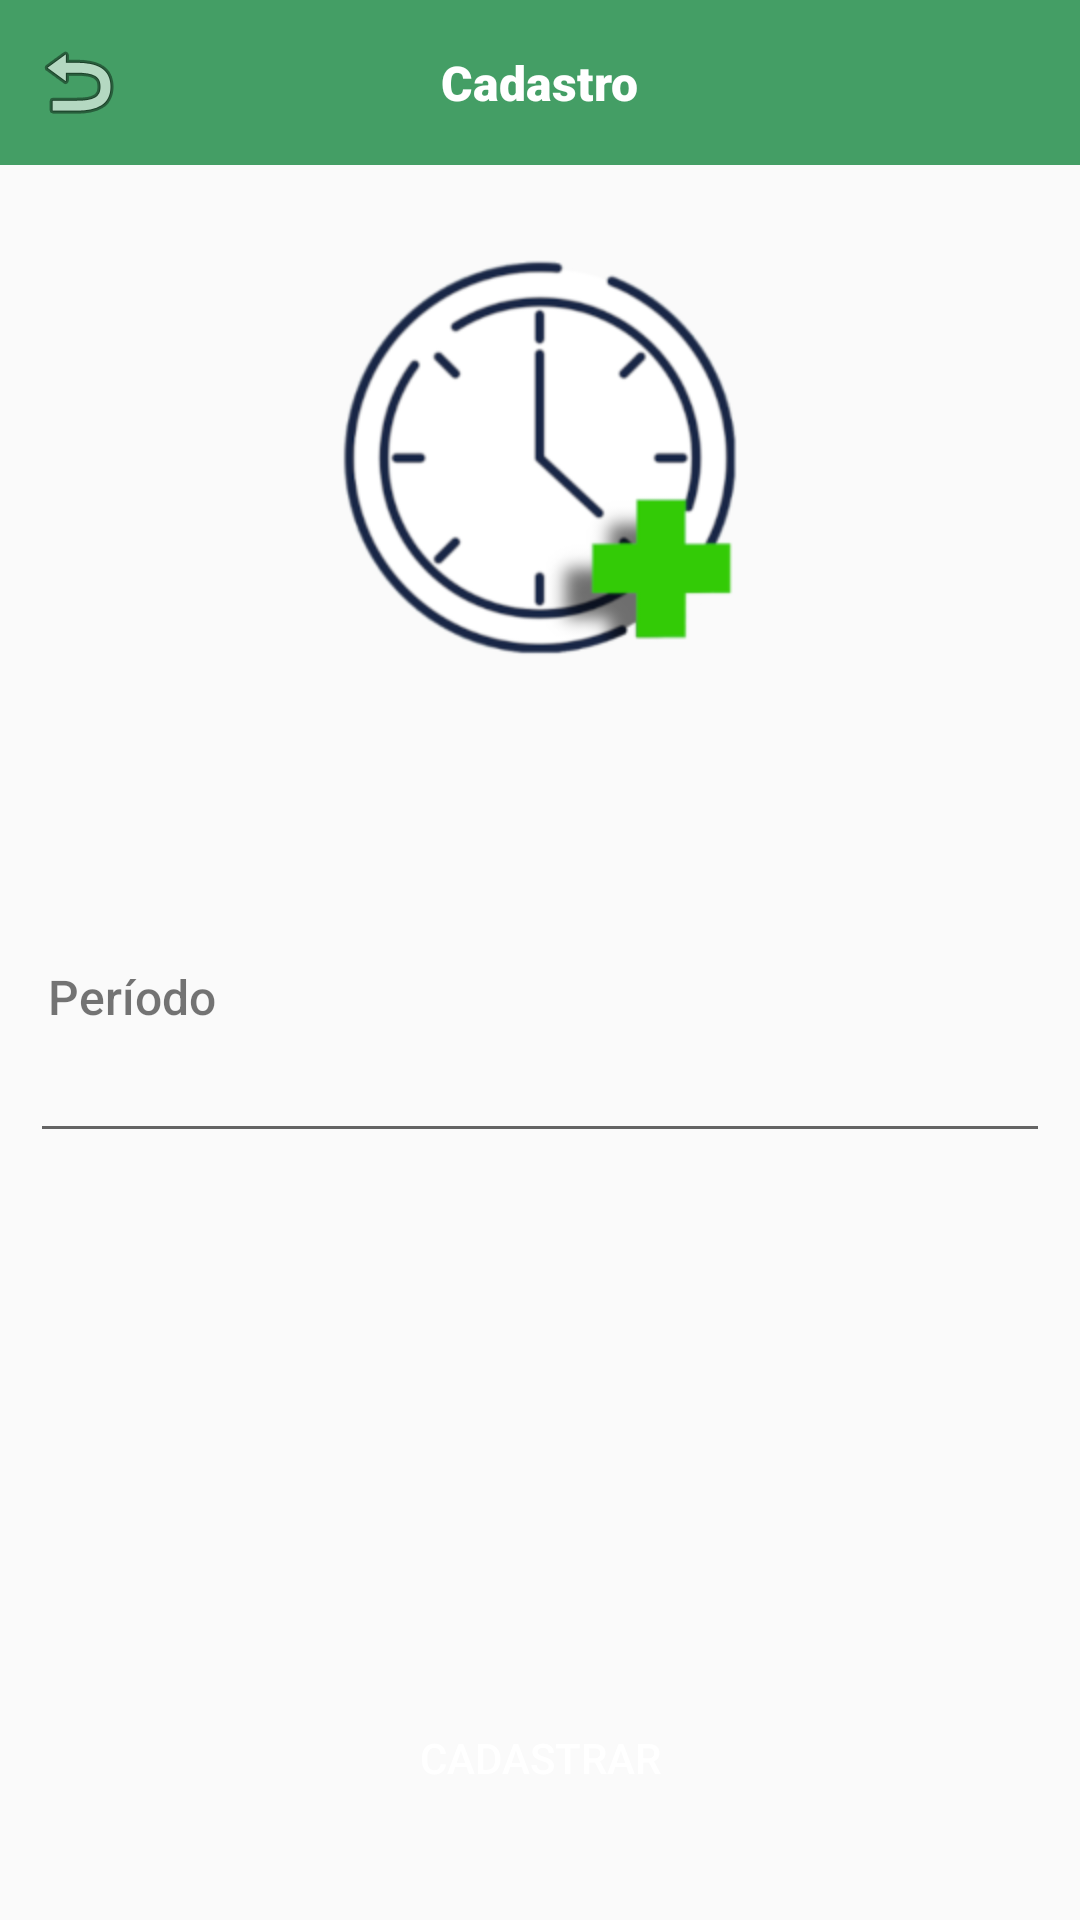

Named icons in this screenshot (1080px×1920px) and their bounding boxes, {"x1": x1, "y1": y1, "x2": x2, "y2": y2}:
revert: {"x1": 45, "y1": 52, "x2": 114, "y2": 114}
